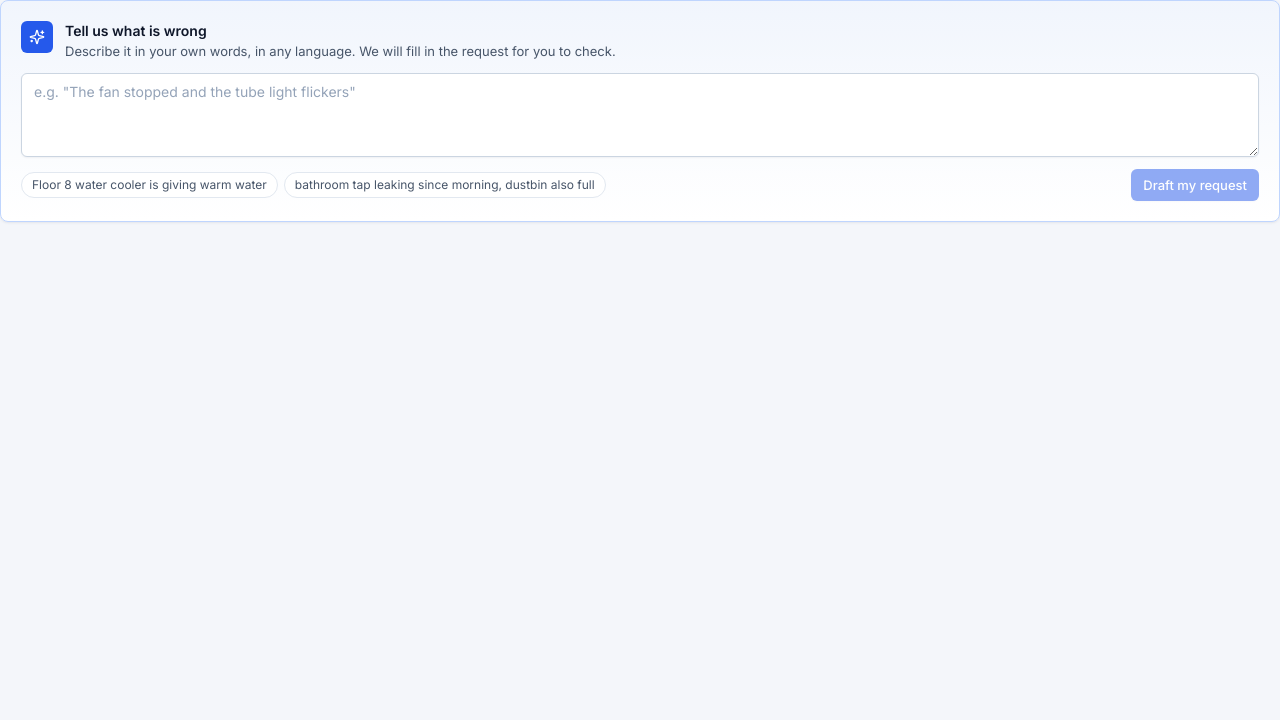
Test: RequestAssistant › explains fallbacks and blocks drafts that cannot be sent yet
Type "socket sparking" into the text box named "describe the problem". click: (640, 115)
box: [21, 73, 1259, 157]
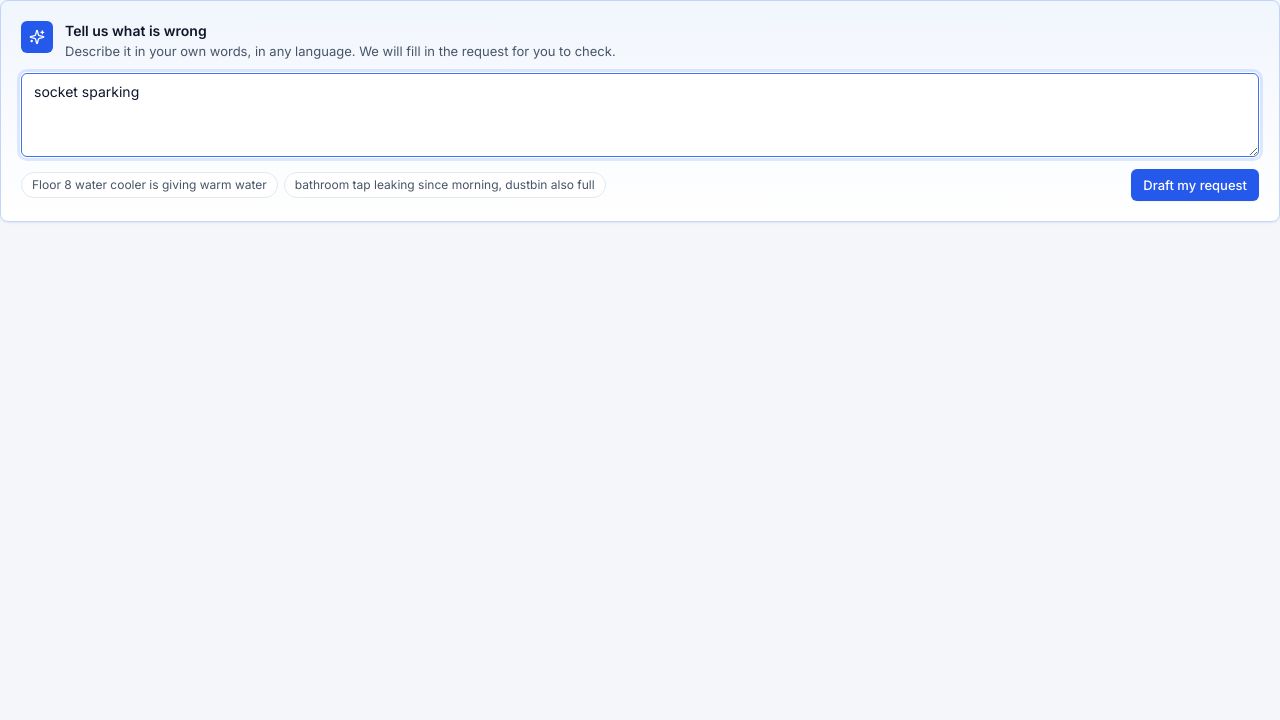
Click the button "Draft my request". click: (1195, 185)
box: [1131, 169, 1259, 201]
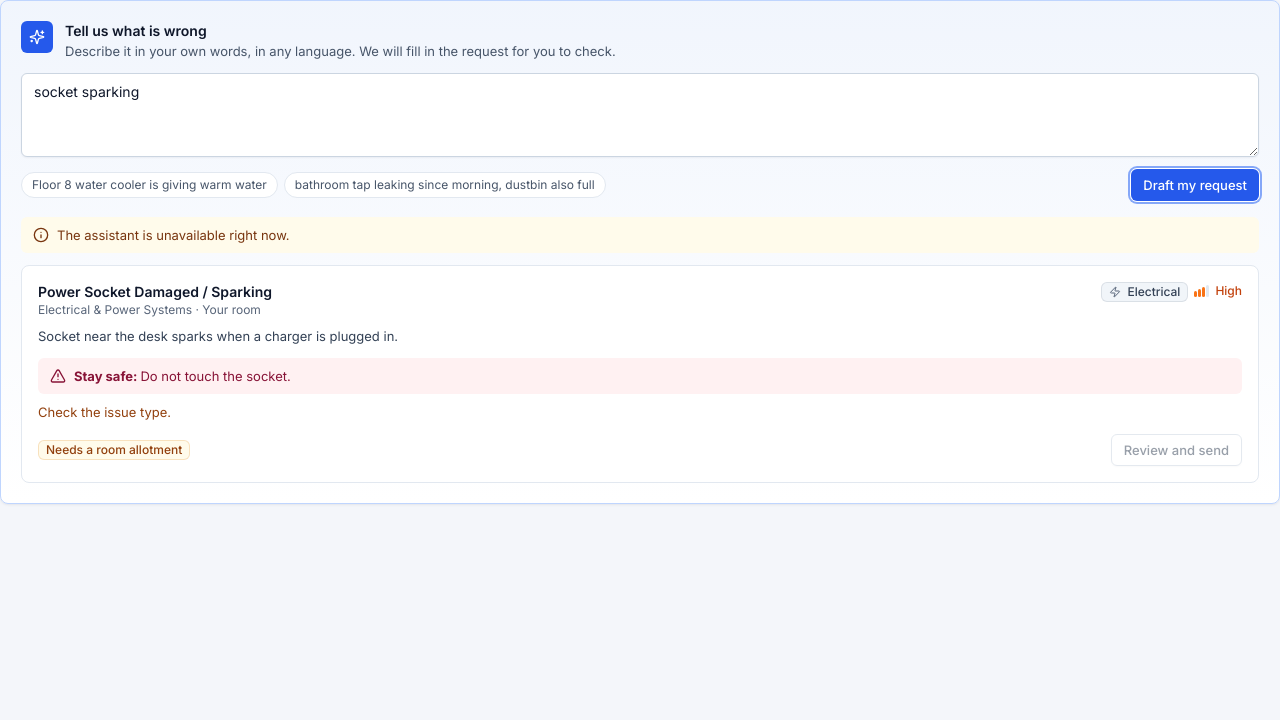
Check: the text "The assistant is unavailable right now." is shown, box [21, 217, 1259, 253]
Check: the text "Check the issue type." is shown, box [38, 404, 171, 420]
Check: the text "Needs a room allotment" is shown, box [38, 440, 190, 460]
